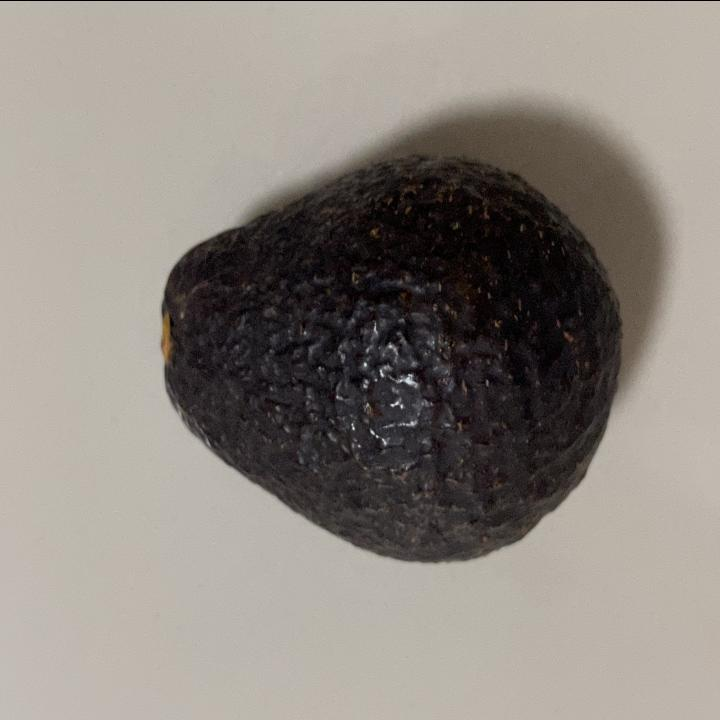Level3: (150, 145, 628, 575)
